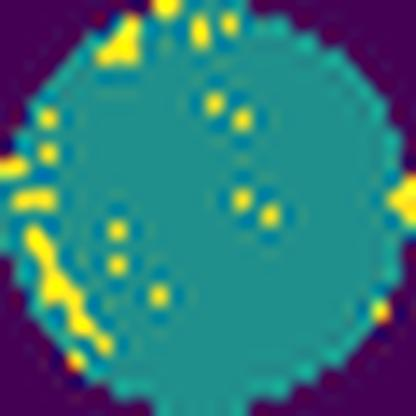Scratch: (20, 224, 121, 366)
